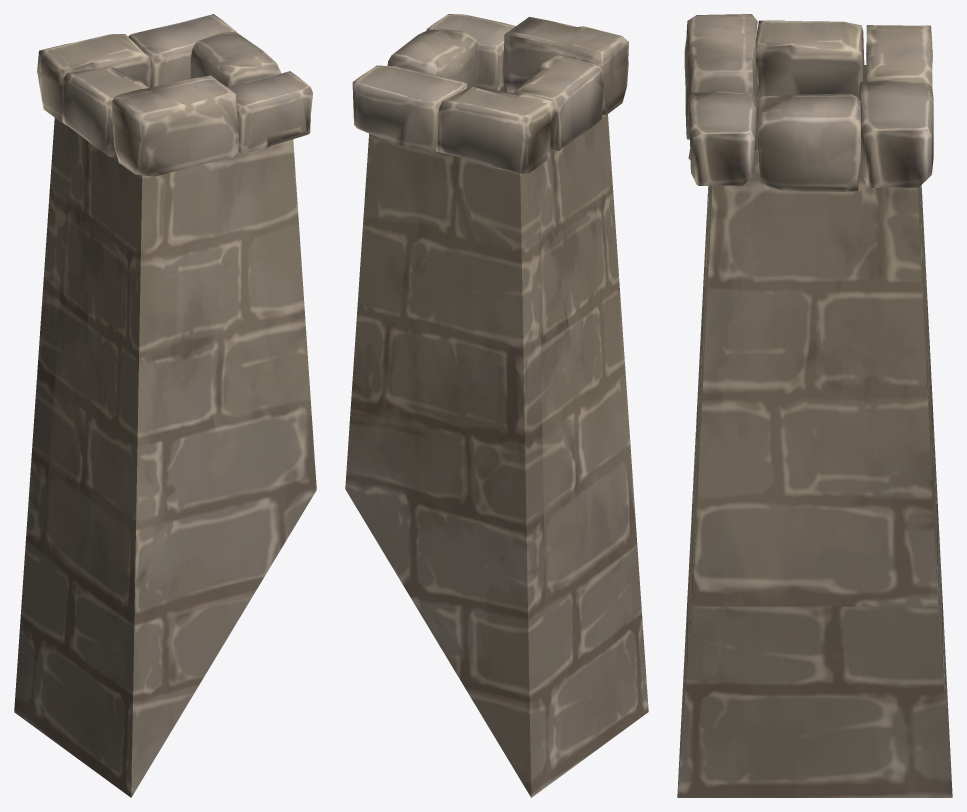
Rendered from Prop_Chimney.gltf.
The picture shows the model from 3 angles, left to right: view 1: azimuth 30°, elevation 25°; view 2: azimuth 150°, elevation 25°; view 3: azimuth 270°, elevation 25°; orthographic projection. The views are drawn at different scales.
Visible parts, largest first — view 1: Prop_Chimney; view 2: Prop_Chimney; view 3: Prop_Chimney.
Part boxes in pixels (left/top/right/bottom): Prop_Chimney: left=14, top=14, right=316, bottom=797; Prop_Chimney: left=345, top=14, right=648, bottom=797; Prop_Chimney: left=677, top=14, right=952, bottom=797.
Size of the model in its own units: 0.9458 by 3.18 by 1.
Materials: 2 (2 with a texture image).
